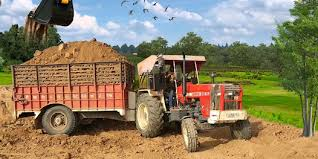wheel: (135, 94, 160, 137), (44, 106, 71, 135), (181, 120, 198, 151)
